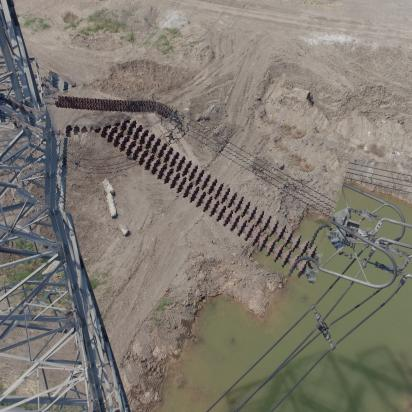insulator: (20, 93, 345, 265), (48, 75, 160, 135)
